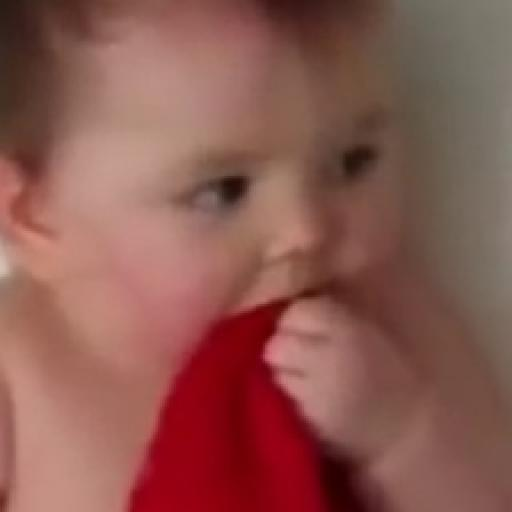Autism: (19, 26, 478, 498)
